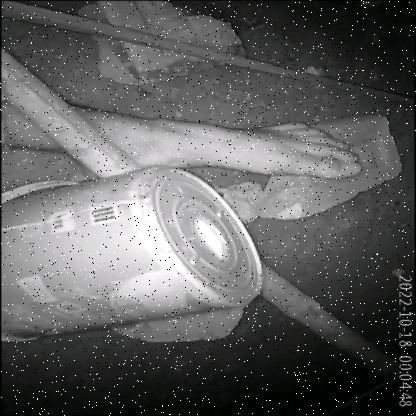leg: (0, 81, 386, 193)
